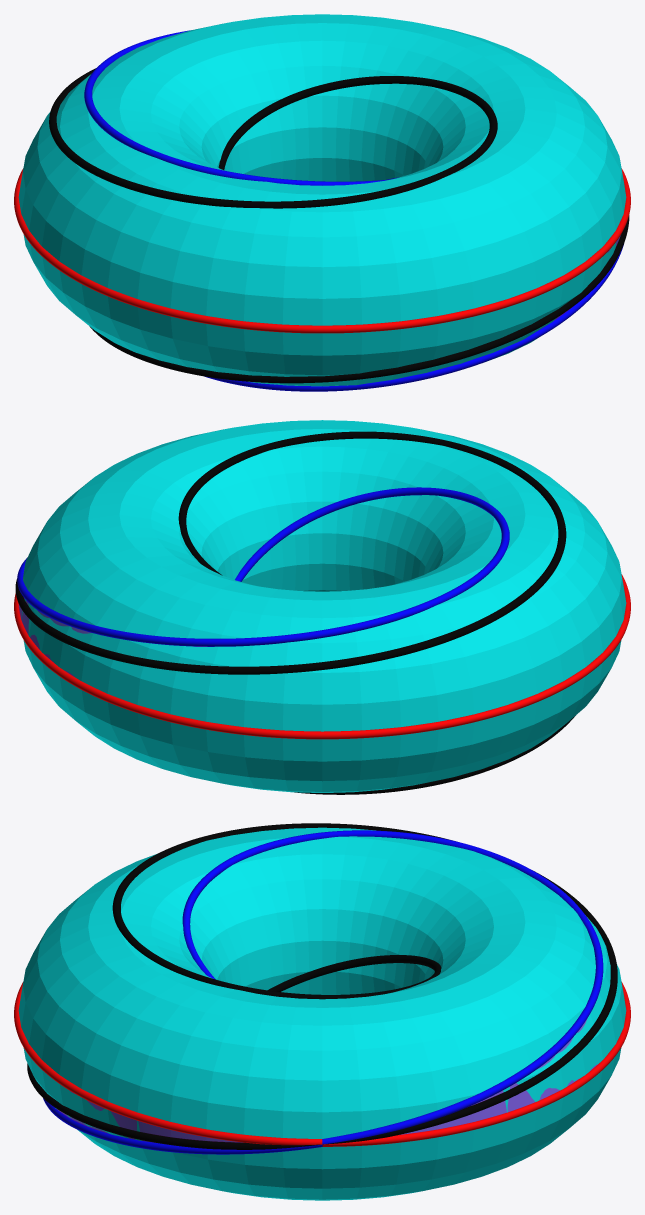
File: one_vertex_solid_torus.glb
The picture shows the model from 3 angles, top to bottom: view 1: azimuth 30°, elevation 25°; view 2: azimuth 150°, elevation 25°; view 3: azimuth 270°, elevation 25°; orthographic projection.
Parts seen in each view (by area): view 1: Torus, black, red, blue; view 2: Torus, black, blue, red; view 3: Torus, black, blue, red, TorusKnot_1_0.001.
Part boxes in pixels (bbox=[...]): Torus: bbox=[18, 14, 626, 386]; black: bbox=[49, 68, 629, 383]; red: bbox=[14, 168, 630, 333]; blue: bbox=[84, 30, 623, 391]; Torus: bbox=[19, 420, 626, 792]; black: bbox=[15, 431, 575, 794]; blue: bbox=[17, 487, 509, 646]; red: bbox=[14, 574, 630, 739]; Torus: bbox=[18, 827, 626, 1200]; black: bbox=[27, 823, 617, 1149]; blue: bbox=[43, 830, 603, 1154]; red: bbox=[14, 982, 630, 1146]; TorusKnot_1_0.001: bbox=[57, 1019, 597, 1142].
Size of the model in its own units: 3.04 by 1.04 by 3.04.
